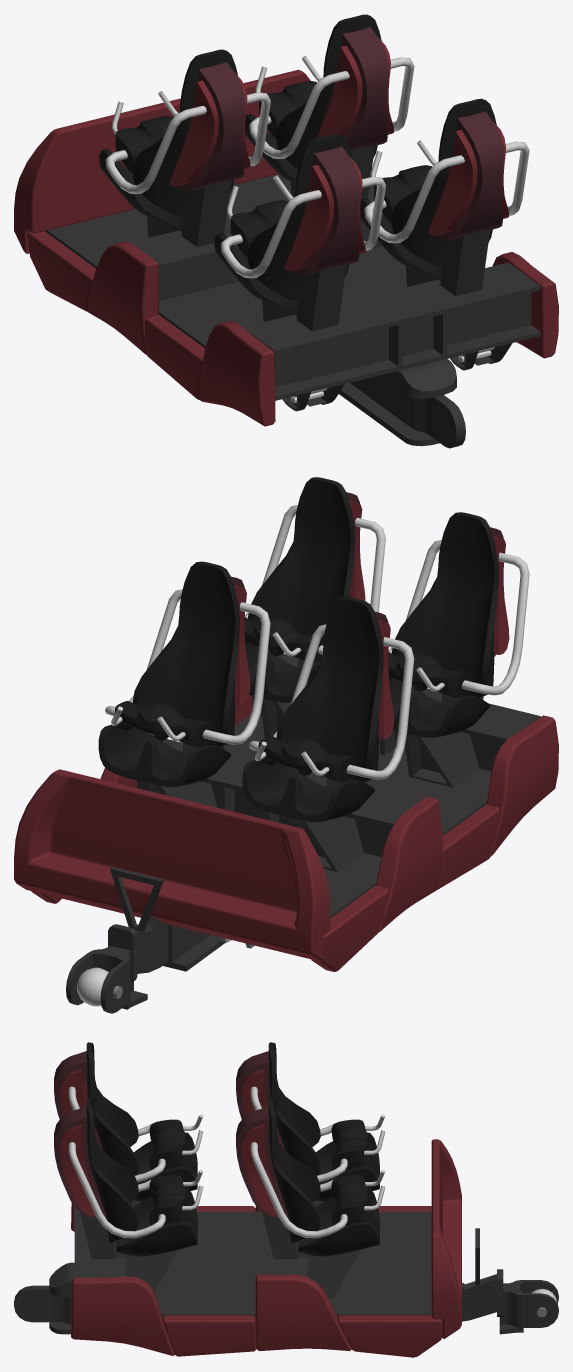
Rendered from LSM_MidCar.glb.
3 renders of one model, top to bottom at view 1: azimuth 30°, elevation 25°; view 2: azimuth 150°, elevation 25°; view 3: azimuth 270°, elevation 25°, orthographic. The views are drawn at different scales.
Parts seen in each view (by area): view 1: LSM_Mid; view 2: LSM_Mid; view 3: LSM_Mid.
Part boxes in pixels (<box>): LSM_Mid: <box>14,14,558,448</box>; LSM_Mid: <box>14,477,558,1013</box>; LSM_Mid: <box>14,1042,558,1357</box>.
Bounding box in the file's own units: 2.28 × 2.22 × 4.49.
Materials: 1 (1 with a texture image).
